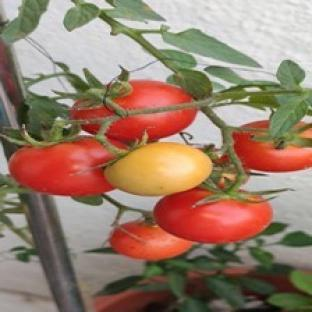Tomato: (154, 189, 272, 243), (9, 137, 114, 196), (105, 143, 211, 196), (109, 221, 192, 260), (233, 131, 311, 172), (106, 109, 197, 142)
